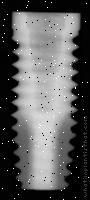Biomet 3i: (7, 12, 81, 192)
